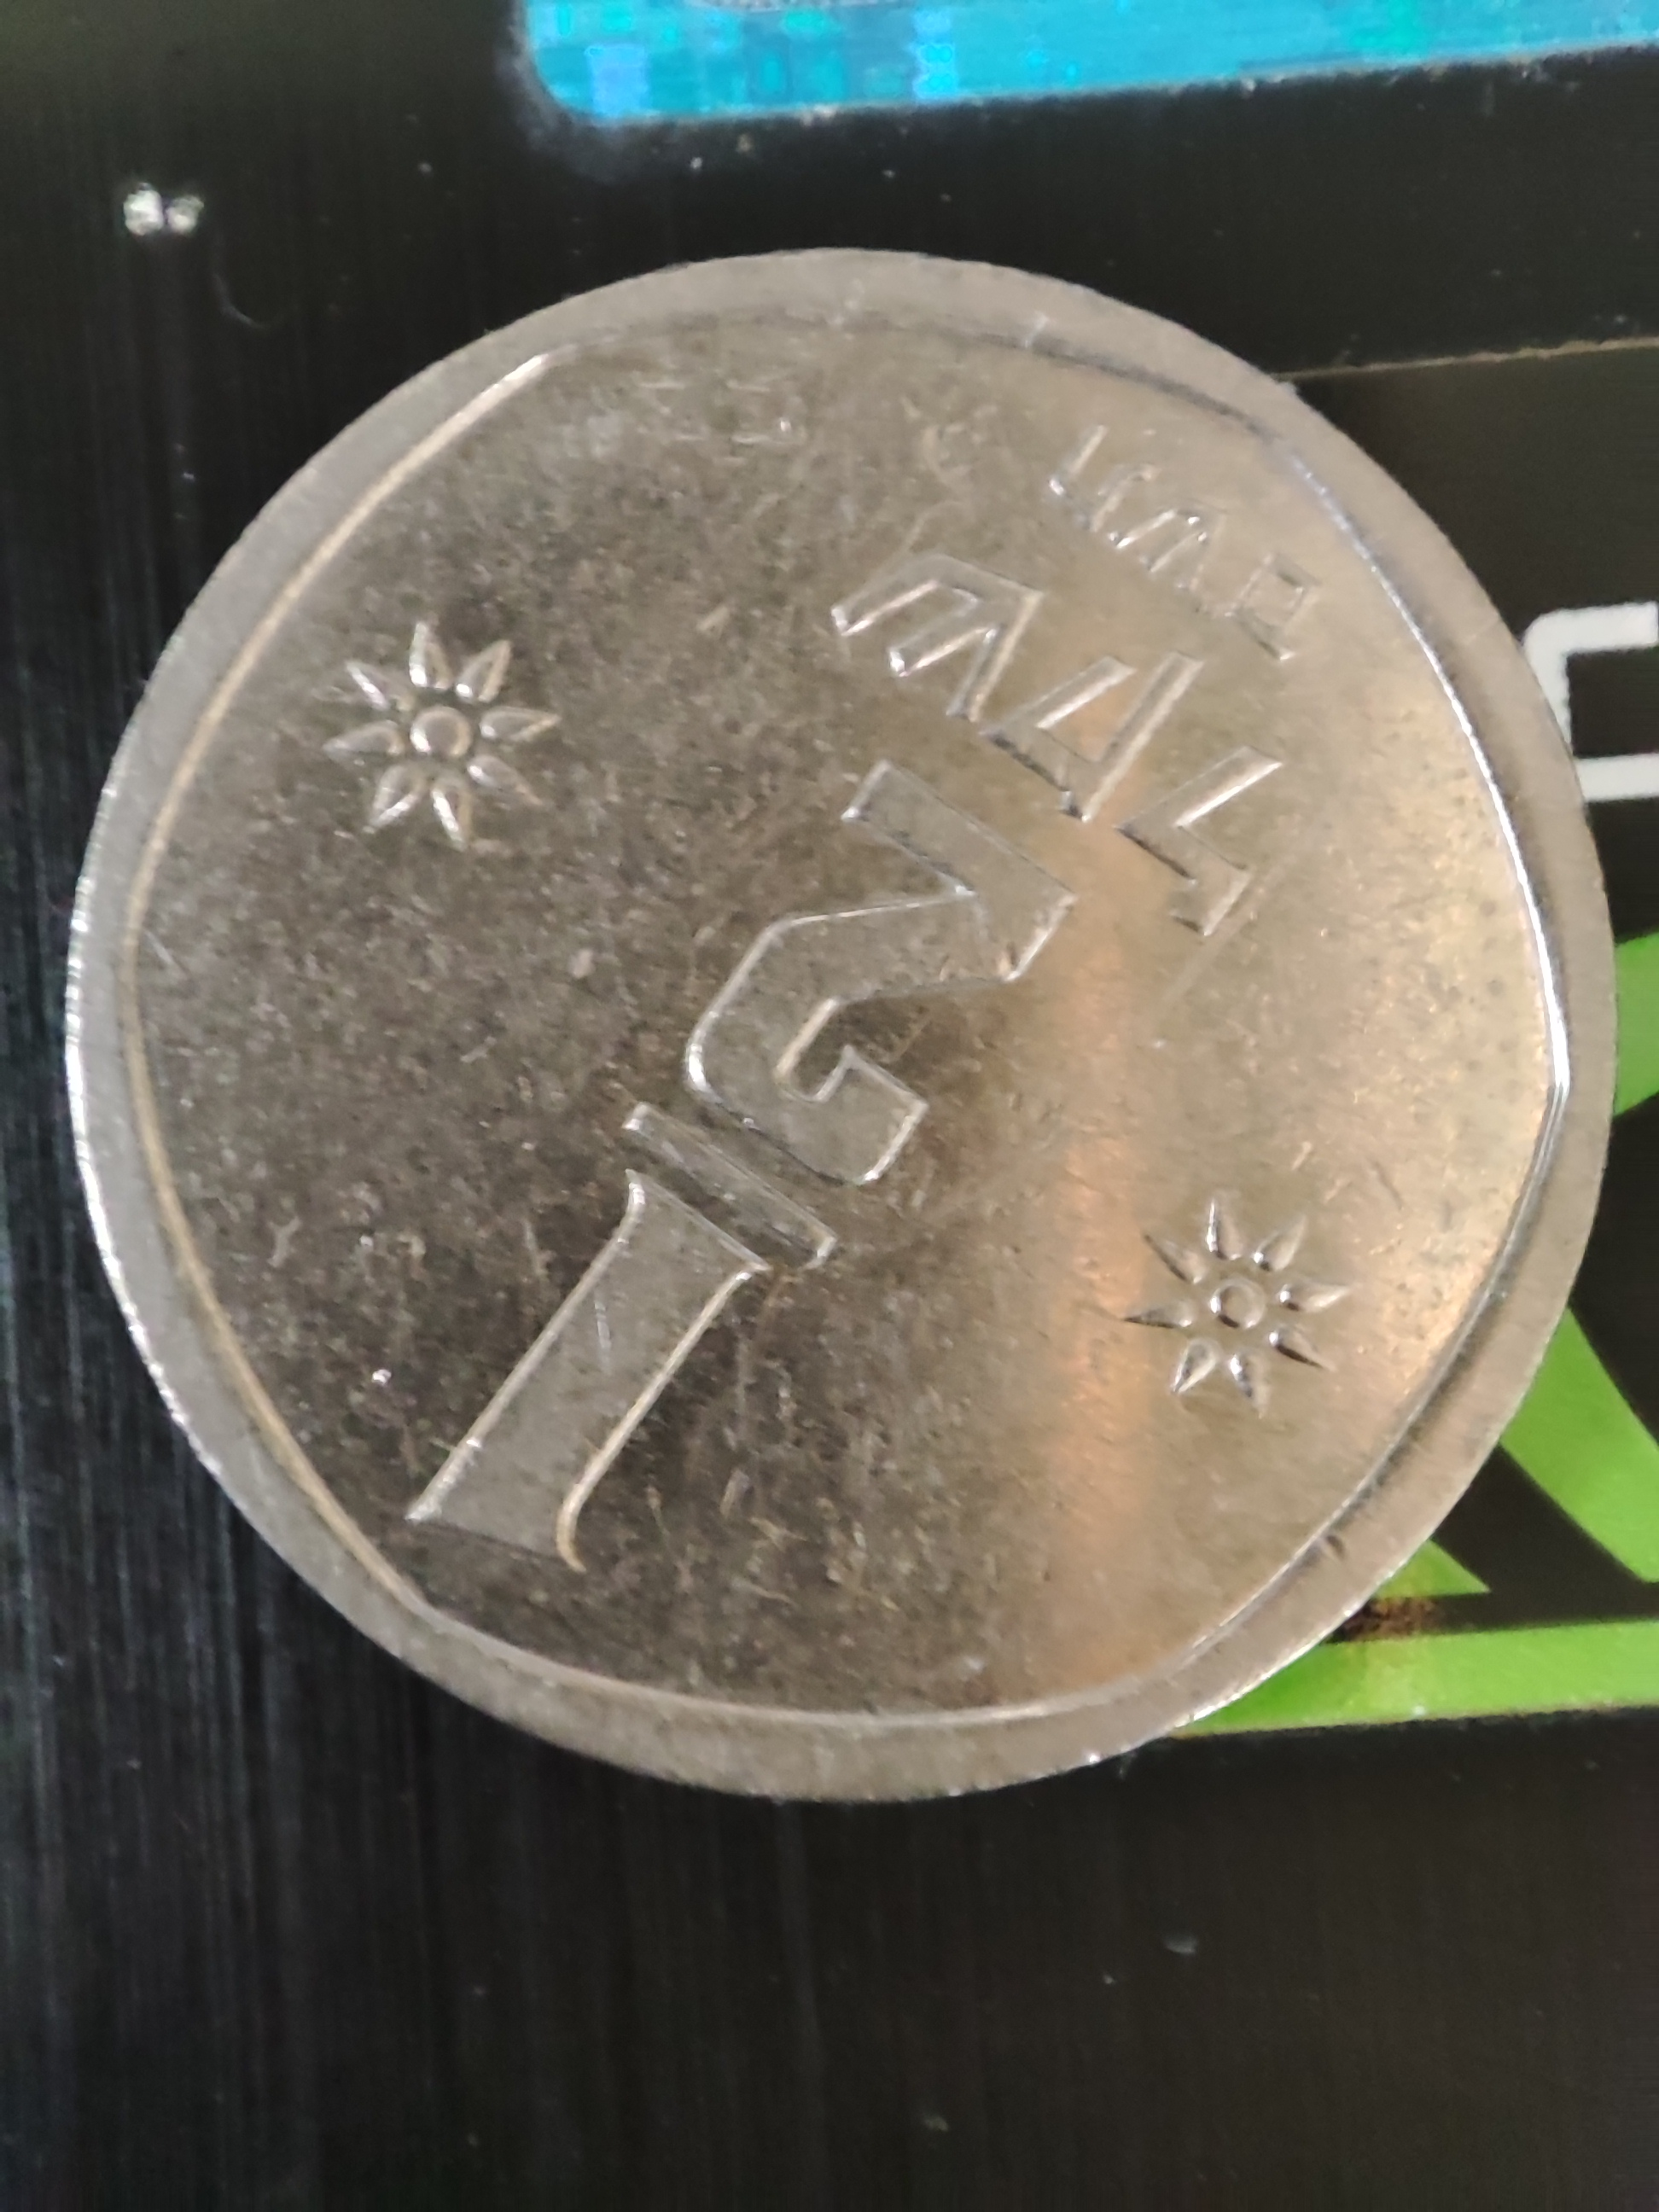1/2 old sheqel: (59, 239, 1621, 1813)
